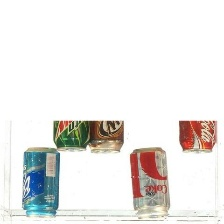can: (128, 145, 174, 220), (19, 144, 63, 219), (179, 118, 217, 156), (51, 118, 90, 154), (89, 119, 126, 155)
